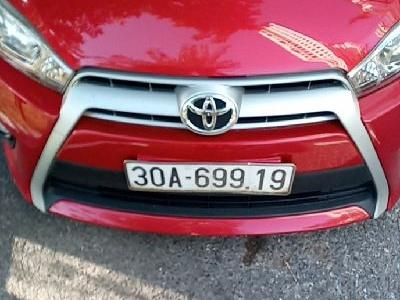lisence: (124, 160, 296, 197)
